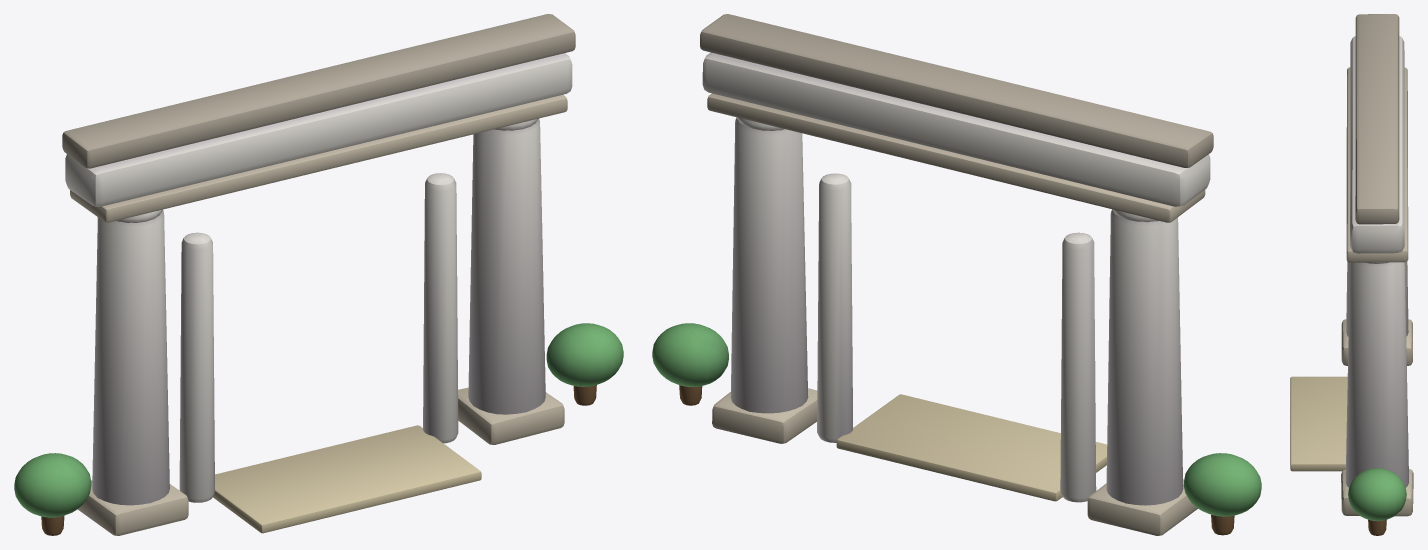
3 renders of one model, left to right at view 1: azimuth 30°, elevation 25°; view 2: azimuth 150°, elevation 25°; view 3: azimuth 270°, elevation 25°, orthographic. The views are drawn at different scales.
Parts seen in each view (by area): view 1: gate_a7aacb17; view 2: gate_a7aacb17; view 3: gate_a7aacb17.
Part boxes in pixels (left/top/right/bottom): gate_a7aacb17: left=14, top=14, right=623, bottom=535; gate_a7aacb17: left=652, top=14, right=1261, bottom=535; gate_a7aacb17: left=1290, top=14, right=1413, bottom=535.
Size of the model in its own units: 6.53 by 4.04 by 1.42.
